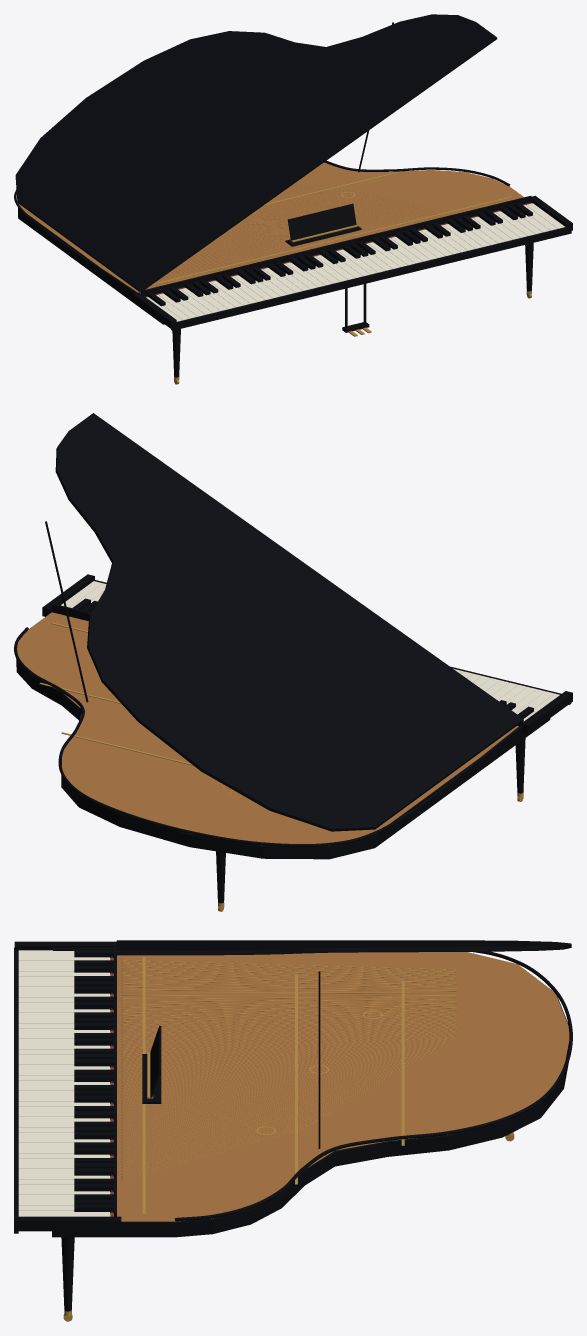
File: piano.glb
The picture shows the model from 3 angles, top to bottom: view 1: azimuth 30°, elevation 25°; view 2: azimuth 150°, elevation 25°; view 3: azimuth 270°, elevation 25°; orthographic projection. The views are drawn at different scales.
Parts seen in each view (by area): view 1: Raised grand lid, Maple soundboard, Key front rail, Fallboard, Music desk, Polished grand case, Continuous lacquer rim, Cast brass plate crossbar, Keyboard cheek block; view 2: Raised grand lid, Maple soundboard, Polished grand case, Continuous lacquer rim, Keyboard cheek block; view 3: Maple soundboard, Polished grand case, Raised grand lid, Continuous lacquer rim, Keyboard cheek block (×2), Cast brass plate crossbar (×3), Key front rail, Fallboard, Tapered concert leg, Music desk, Lid prop, Music desk foot (+3 smaller).
Boxes of the visible parts, bbox=[...] form: Raised grand lid: bbox=[15, 14, 497, 292]; Maple soundboard: bbox=[19, 162, 532, 297]; Key front rail: bbox=[171, 227, 571, 330]; Fallboard: bbox=[141, 195, 531, 296]; Music desk: bbox=[288, 203, 356, 241]; Polished grand case: bbox=[18, 208, 164, 324]; Continuous lacquer rim: bbox=[14, 160, 510, 293]; Cast brass plate crossbar: bbox=[151, 196, 512, 285]; Keyboard cheek block: bbox=[133, 292, 176, 328]; Raised grand lid: bbox=[55, 413, 523, 831]; Maple soundboard: bbox=[17, 612, 518, 845]; Polished grand case: bbox=[16, 637, 550, 859]; Continuous lacquer rim: bbox=[14, 627, 522, 846]; Keyboard cheek block: bbox=[520, 691, 572, 734]; Maple soundboard: bbox=[110, 952, 569, 1221]; Polished grand case: bbox=[52, 996, 568, 1237]; Raised grand lid: bbox=[116, 940, 571, 955]; Continuous lacquer rim: bbox=[53, 947, 572, 1221]; Keyboard cheek block (×2): bbox=[14, 941, 121, 1231]; Cast brass plate crossbar (×3): bbox=[142, 957, 404, 1214]; Key front rail: bbox=[14, 947, 18, 1233]; Fallboard: bbox=[113, 942, 116, 1216]; Tapered concert leg: bbox=[61, 1237, 74, 1311]; Music desk: bbox=[150, 1025, 161, 1098]; Lid prop: bbox=[318, 971, 320, 1148]; Music desk foot: bbox=[142, 1054, 161, 1103].
Bounding box in the file's own units: 86.7 × 52 × 73.39.
